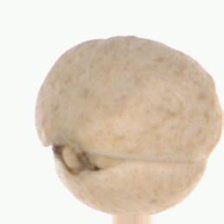L1: (35, 133, 118, 176)
L2: (35, 35, 222, 215)
